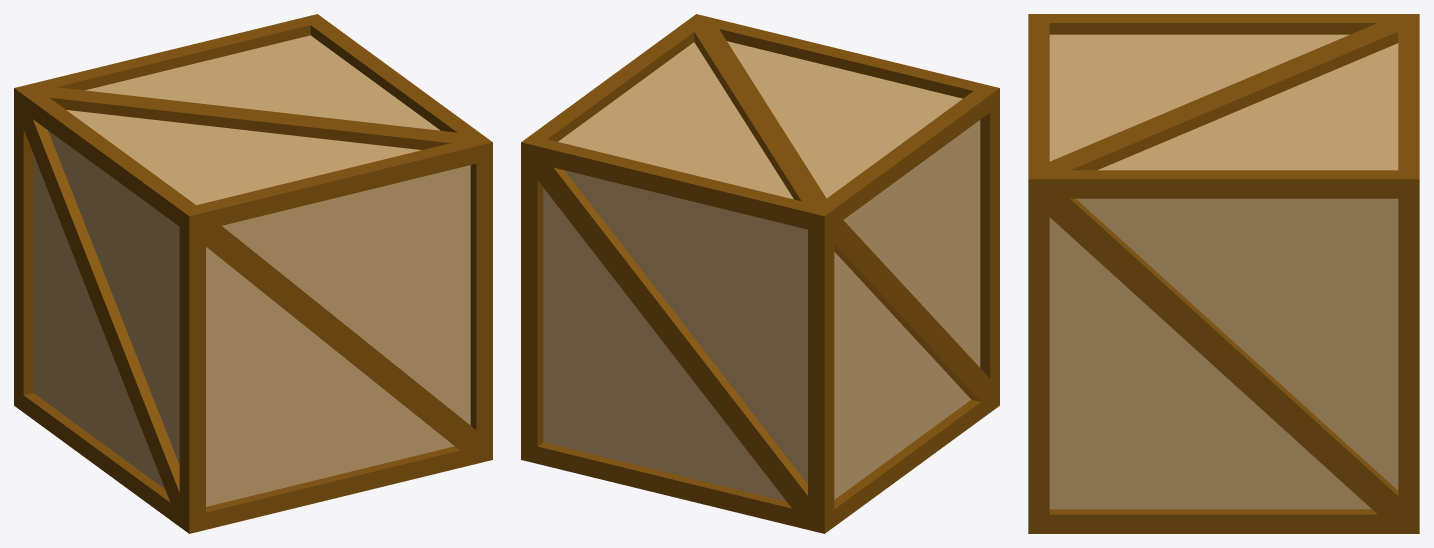
The model's file is WoodenBox2.fbx.
3 renders of one model, left to right at view 1: azimuth 30°, elevation 25°; view 2: azimuth 150°, elevation 25°; view 3: azimuth 270°, elevation 25°, orthographic. The views are drawn at different scales.
Parts seen in each view (by area): view 1: caixa1; view 2: caixa1; view 3: caixa1.
Part boxes in pixels (x1,y1,x2,y2): caixa1: (14, 14, 492, 533); caixa1: (521, 14, 999, 533); caixa1: (1028, 14, 1419, 533).
Size of the model in its own units: 297 by 297 by 297.
